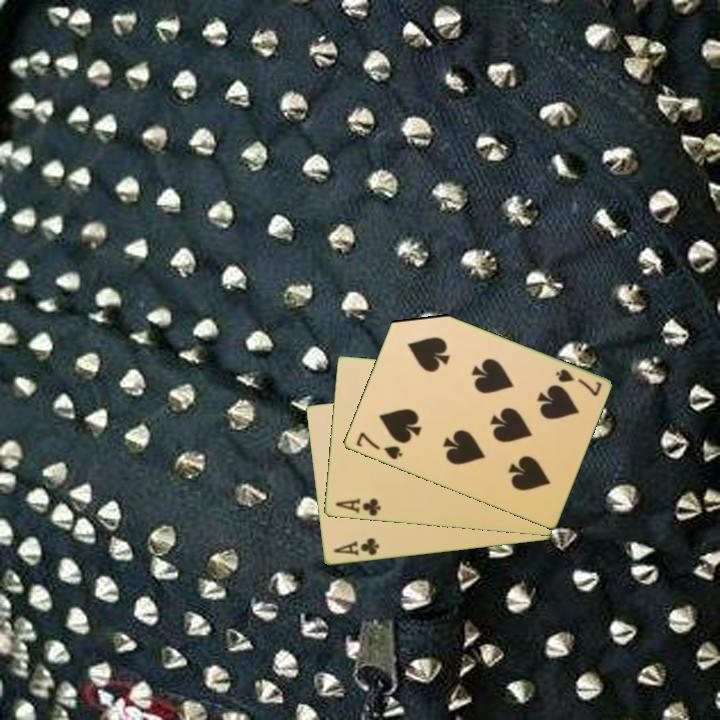7s: (352, 429, 405, 463), (552, 365, 604, 399)
Ac: (329, 534, 382, 559), (332, 495, 383, 519)
